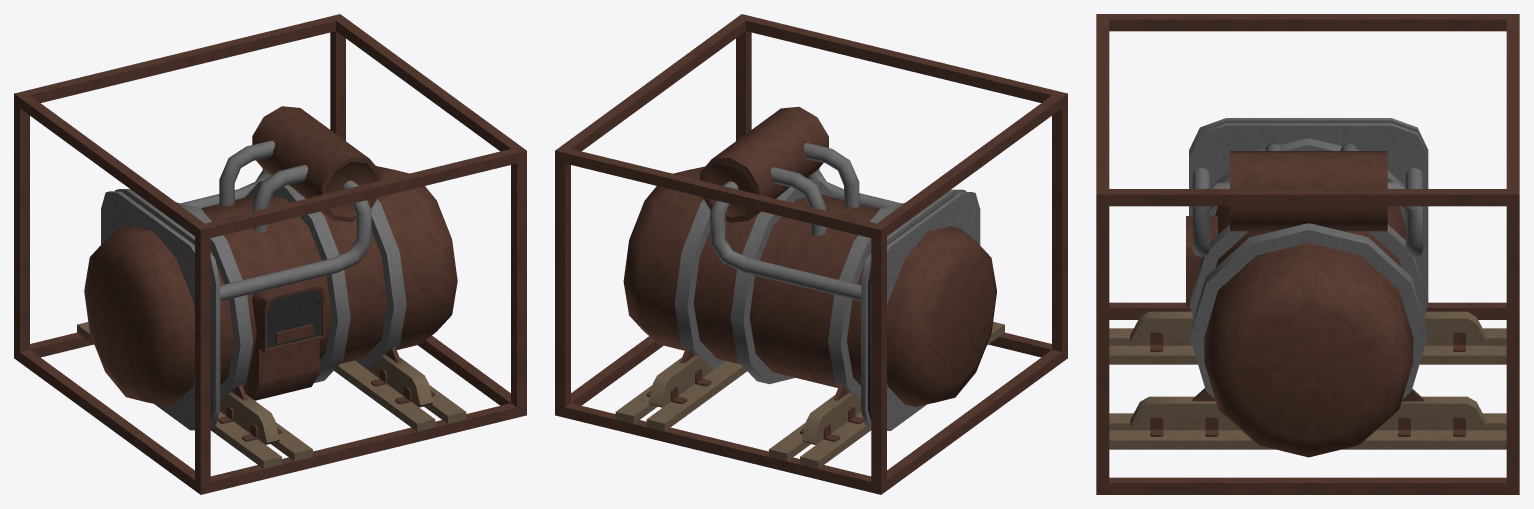
The model's file is BarrelWtihController.fbx.
3 renders of one model, left to right at view 1: azimuth 30°, elevation 25°; view 2: azimuth 150°, elevation 25°; view 3: azimuth 270°, elevation 25°, orthographic. The views are drawn at different scales.
Parts seen in each view (by area): view 1: Cylinder.017; view 2: Cylinder.017; view 3: Cylinder.017.
Part boxes in pixels (left/top/right/bottom): Cylinder.017: left=14, top=14, right=526, bottom=494; Cylinder.017: left=555, top=14, right=1067, bottom=494; Cylinder.017: left=1096, top=14, right=1519, bottom=494.
Bounding box in the file's own units: 273 × 212 × 271.
